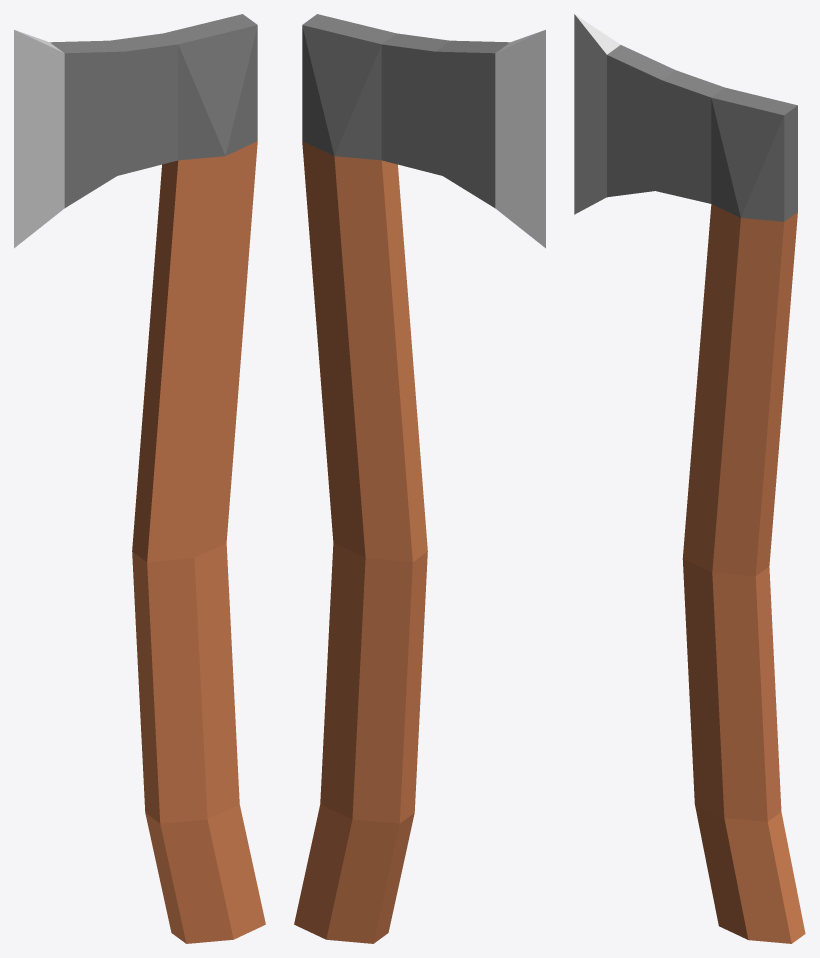
File: MetalAxe.fbx
3 views of the same model, side by side, from view 1: azimuth 30°, elevation 25°; view 2: azimuth 150°, elevation 25°; view 3: azimuth 330°, elevation 25° (orthographic). The views are drawn at different scales.
Parts seen in each view (by area): view 1: MetalAxe; view 2: MetalAxe; view 3: MetalAxe.
Boxes of the visible parts, x1,y1,x2,y2 form: MetalAxe: (14, 14, 265, 943); MetalAxe: (294, 14, 545, 943); MetalAxe: (574, 14, 805, 943).
Bounding box in the file's own units: 0.0387 × 0.1817 × 0.6741.
